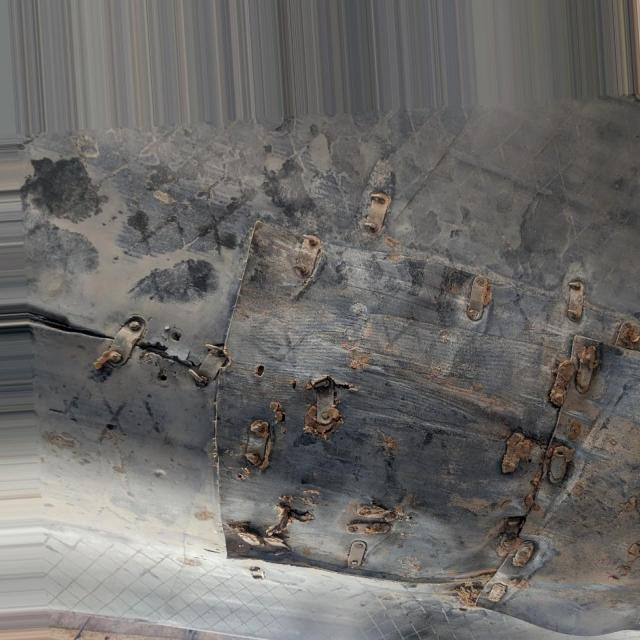patch work: (82, 177, 640, 635)
